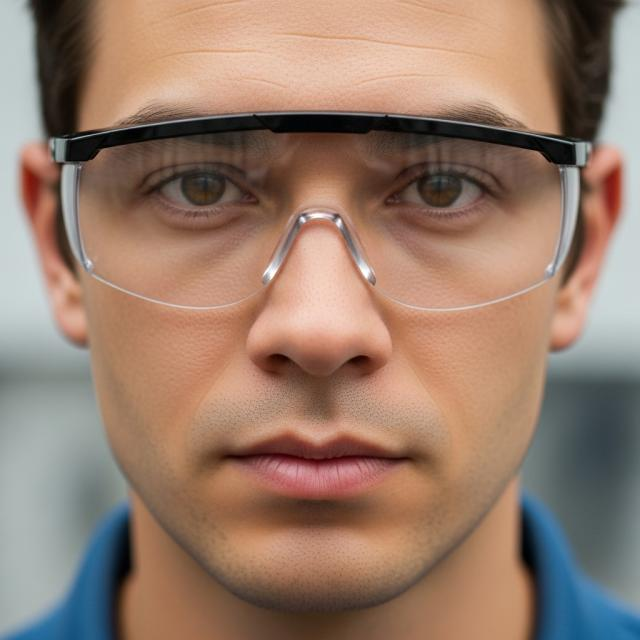oculos-epi: (52, 112, 589, 310)
